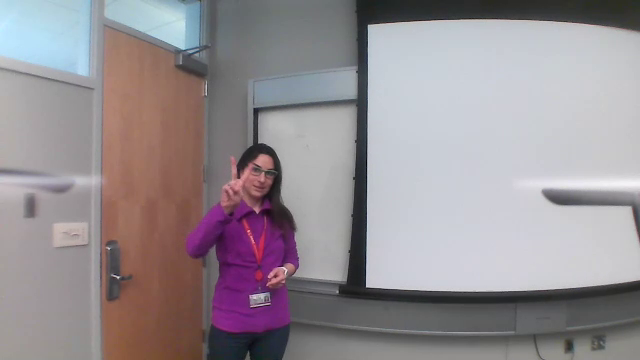peace: (219, 151, 255, 209)
